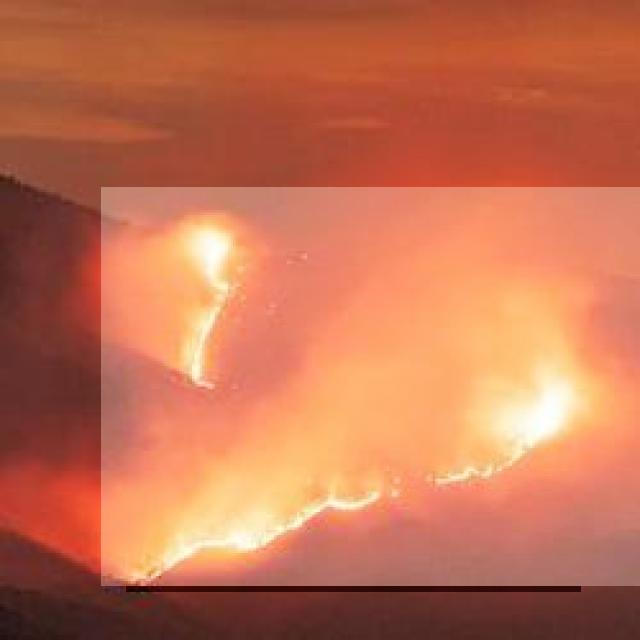Fire: (126, 390, 581, 592), (184, 220, 238, 394)
Smoke: (101, 187, 640, 586)
